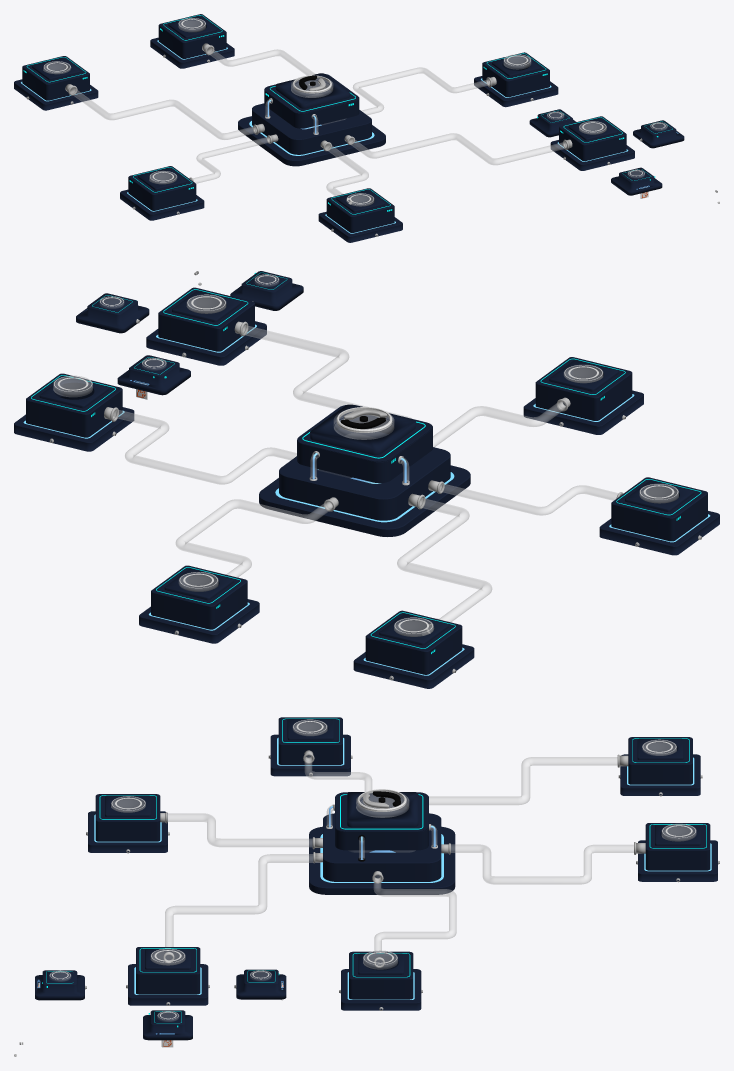
The model's file is Synehcroncity(copy)_newHub(6).glb.
3 views of the same model, one above another, from view 1: azimuth 30°, elevation 25°; view 2: azimuth 150°, elevation 25°; view 3: azimuth 270°, elevation 25° (orthographic). The views are drawn at different scales.
Visible parts, largest first — view 1: Synechron_platform.001, Sub_platform_CTO_Office, Sub_platform_Ai, Sub_platform_Cloud_Dev_ops, Sub_platform_Data, Sub_platform_Digital, Sub_platform_payments, Plane.006, Plane.003, Plane.004, Cube.014, Cube.010 (+12 smaller); view 2: Synechron_platform.001, Sub_platform_Digital, Sub_platform_CTO_Office, Sub_platform_payments, Sub_platform_Ai, Sub_platform_Data, Sub_platform_Cloud_Dev_ops, Plane.003, Plane.002, Plane.004, Plane.006, Cube.014 (+14 smaller); view 3: Synechron_platform.001, Sub_platform_Cloud_Dev_ops, Sub_platform_CTO_Office, Sub_platform_payments, Sub_platform_Ai, Sub_platform_Data, Sub_platform_Digital, Plane.006, Plane.002, Plane.003, Plane.004, Cube.014 (+13 smaller).
Boxes of the visible parts, x1,y1,x2,y2 form: Synechron_platform.001: (238,74,385,166); Sub_platform_CTO_Office: (120,166,204,220); Sub_platform_Ai: (318,188,402,242); Sub_platform_Cloud_Dev_ops: (474,52,558,107); Sub_platform_Data: (550,116,634,170); Sub_platform_Digital: (150,14,234,68); Sub_platform_payments: (14,56,98,110); Plane.006: (349,133,566,164); Plane.003: (70,88,256,139); Plane.004: (353,67,492,114); Cube.014: (275,73,349,108); Cube.010: (633,120,684,148); Synechron_platform.001: (259,405,470,536); Sub_platform_Digital: (139,565,259,643); Sub_platform_CTO_Office: (599,477,719,555); Sub_platform_payments: (353,610,474,688); Sub_platform_Ai: (523,357,643,434); Sub_platform_Data: (146,287,266,365); Sub_platform_Cloud_Dev_ops: (14,373,134,451); Plane.003: (397,498,491,630); Plane.002: (176,499,332,577); Plane.004: (113,410,296,484); Plane.006: (242,325,412,418); Cube.014: (310,404,415,455); Synechron_platform.001: (309,792,455,894); Sub_platform_Cloud_Dev_ops: (341,951,421,1010); Sub_platform_CTO_Office: (270,717,350,776); Sub_platform_payments: (620,737,700,795); Sub_platform_Ai: (88,794,167,852); Sub_platform_Data: (128,947,208,1005); Sub_platform_Digital: (638,823,717,881); Plane.006: (165,854,320,946); Plane.002: (451,844,633,884); Plane.003: (429,757,617,804); Plane.004: (374,875,456,951); Cube.014: (347,792,418,827).
Bounding box in the file's own units: 38.46 × 5.87 × 38.47.
